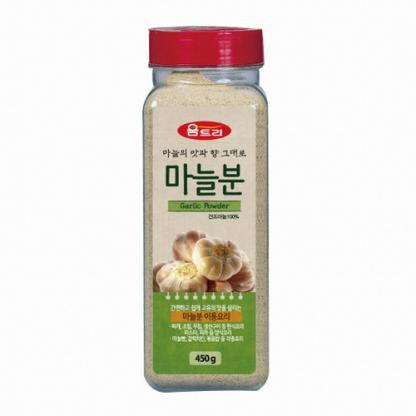garlic: (192, 240, 246, 273), (160, 261, 208, 295)
